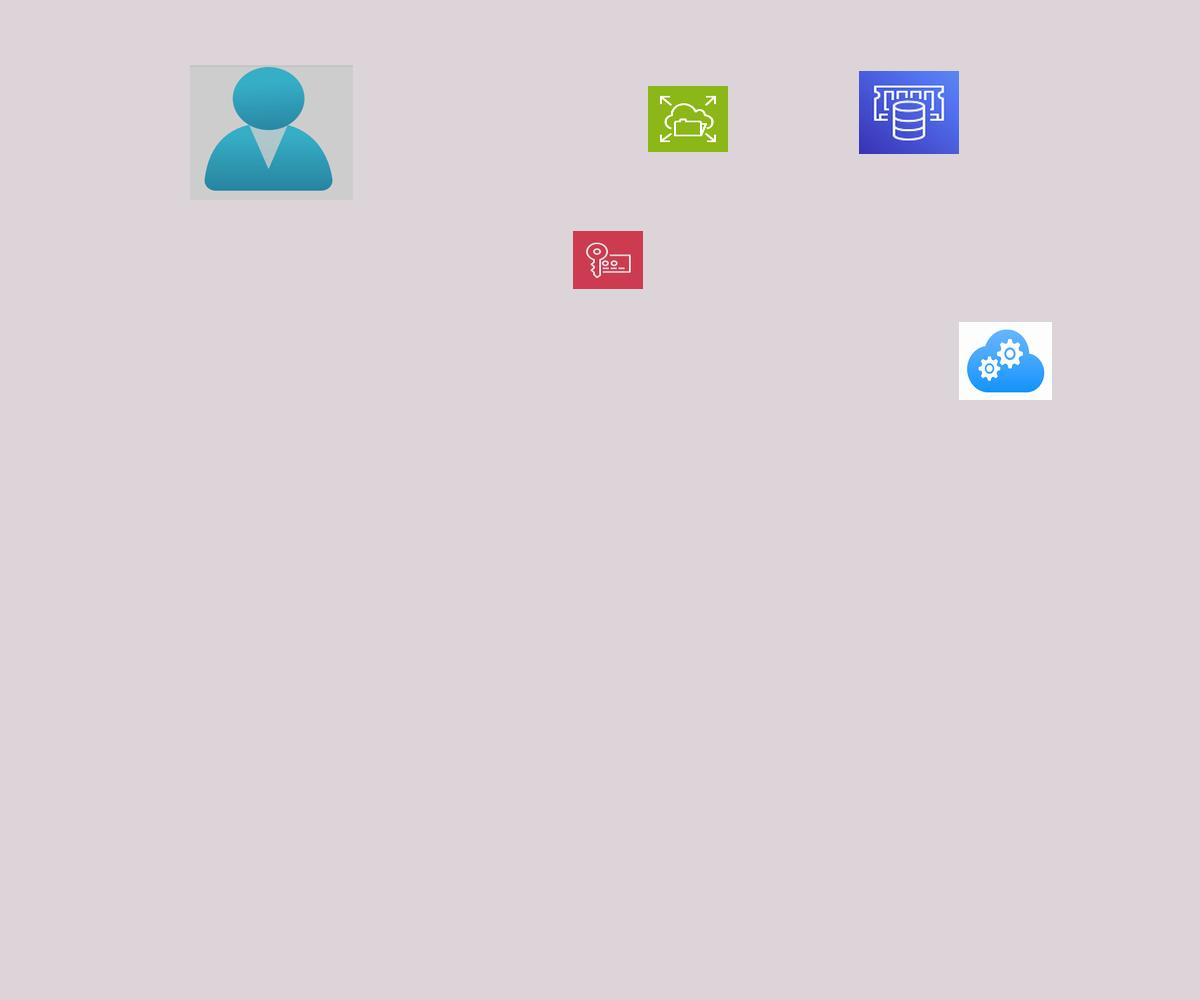AWS-EFS: (648, 86, 728, 152)
AWS-ElastiCache: (859, 71, 959, 154)
AWS-Key-Management-Service: (573, 231, 643, 289)
Azure_cloud_services: (959, 322, 1052, 400)
Azure_users: (190, 65, 353, 200)
